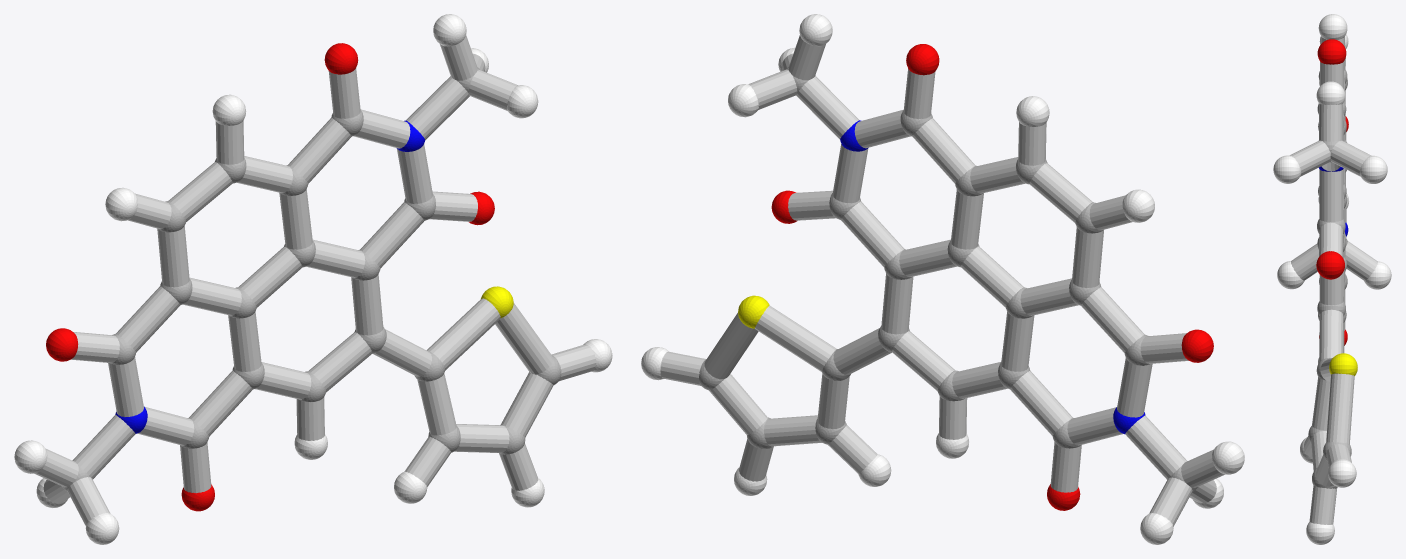
Rendered from Dimethyl_Naphthalene_Dicarboximide_Phi_0_Theta_170_Thiophene.glb.
3 views of the same model, side by side, from view 1: azimuth 30°, elevation 25°; view 2: azimuth 150°, elevation 25°; view 3: azimuth 270°, elevation 25° (orthographic). The views are drawn at different scales.
Parts seen in each view (by area): view 1: grp14119, grp7241, grp1, grp12309, grp11585; view 2: grp14119, grp7241, grp1, grp12309, grp11585, grp13757; view 3: grp14119, grp7241, grp1, grp12309, grp13757.
Boxes of the visible parts, x1=… form: grp14119: x1=34, y1=35, x2=596, y2=525; grp7241: x1=14, y1=14, x2=612, y2=544; grp1: x1=62, y1=67, x2=561, y2=491; grp12309: x1=46, y1=43, x2=494, y2=511; grp11585: x1=115, y1=120, x2=425, y2=433; grp14119: x1=660, y1=35, x2=1224, y2=526; grp7241: x1=641, y1=14, x2=1244, y2=544; grp1: x1=699, y1=67, x2=1197, y2=492; grp12309: x1=771, y1=44, x2=1213, y2=510; grp11585: x1=840, y1=120, x2=1145, y2=434; grp13757: x1=738, y1=295, x2=769, y2=328; grp14119: x1=1289, y1=36, x2=1377, y2=524; grp7241: x1=1273, y1=14, x2=1391, y2=544; grp1: x1=1308, y1=69, x2=1351, y2=488; grp12309: x1=1316, y1=39, x2=1348, y2=345; grp13757: x1=1329, y1=353, x2=1357, y2=375.
Size of the model in its own units: 12.34 by 9.93 by 2.47.
